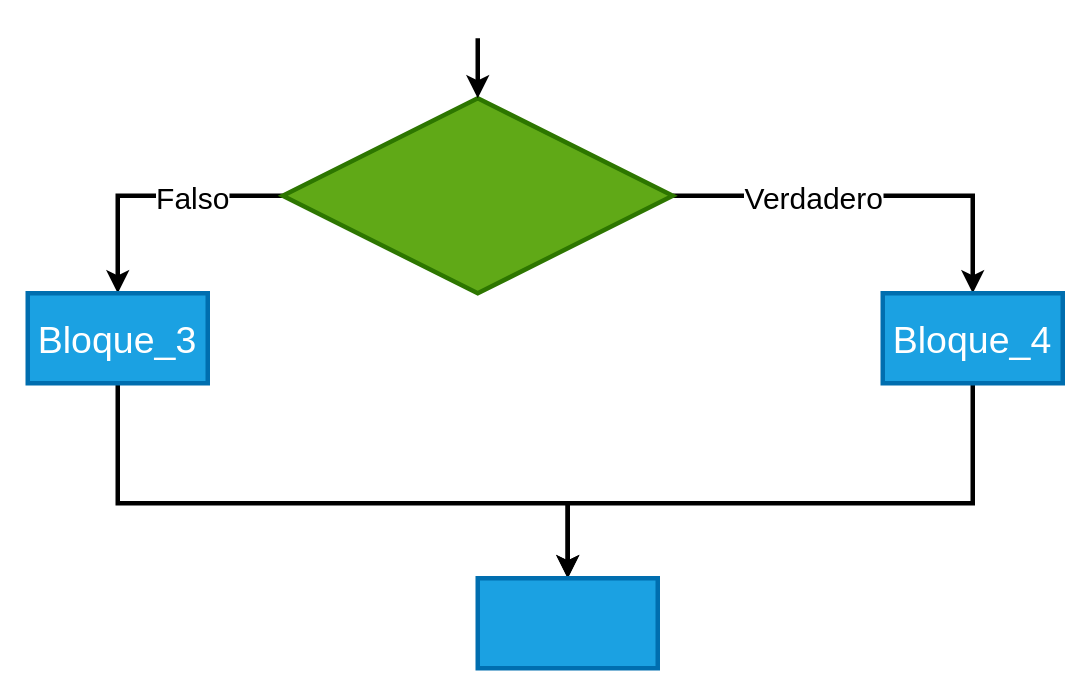
This 1091x696 diagram has some shape labels left out. Here are the shapes that lost their labels. From the top down, the centre of each, then its label:
At [477,195]: "Condición_2".
At [567,622]: "Bloque_5".
